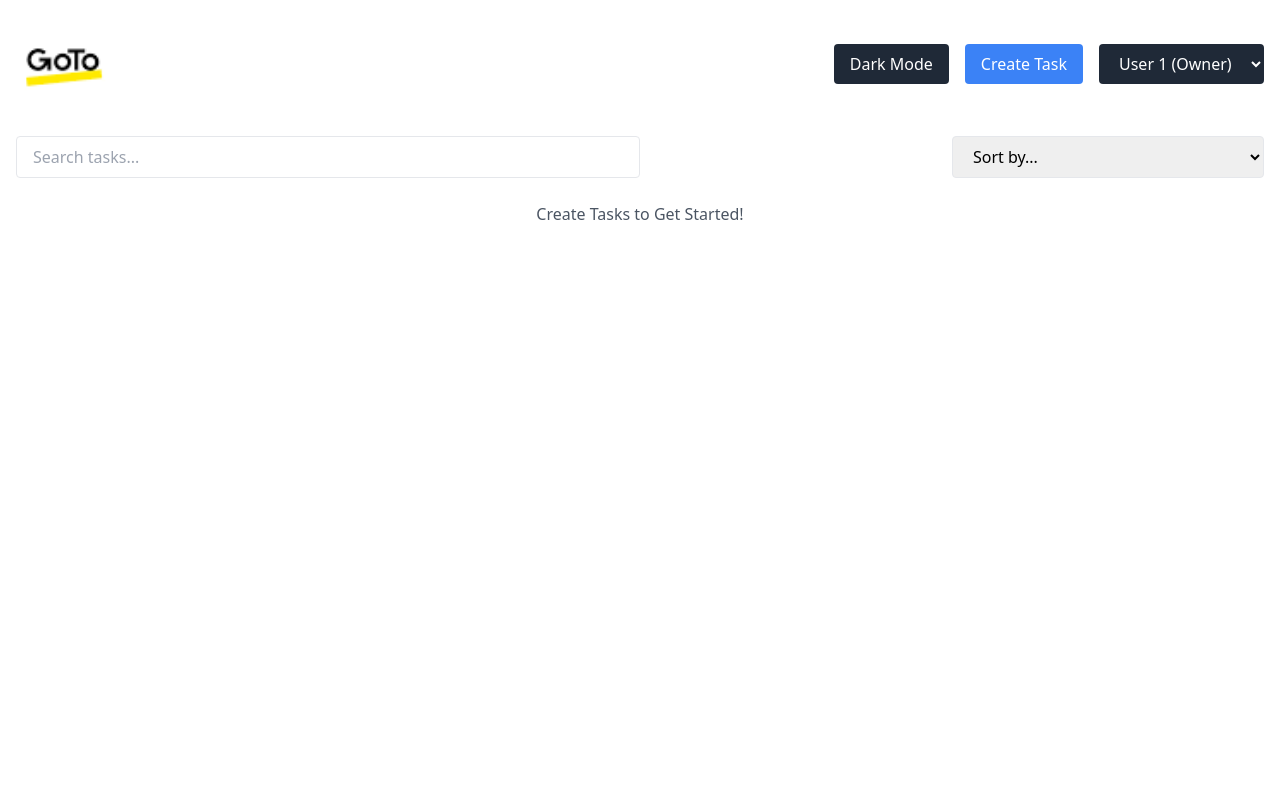
renders App component and toggles theme
The image size is (1280, 800).
expect the button "Create Task" is shown: met, box [965,44,1083,84]
// Check if the theme toggle button works
Click the button "Dark Mode" at point(891, 64), box [834,44,949,84]
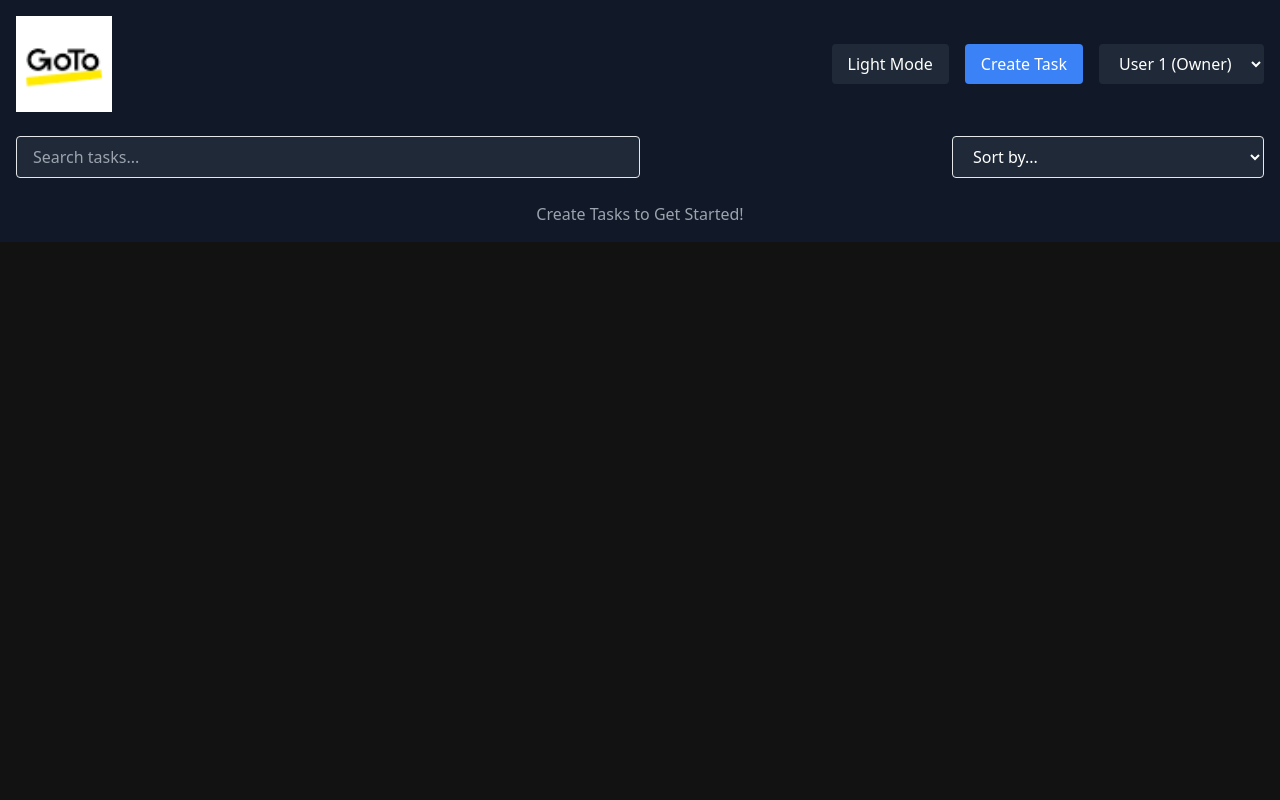
expect the button "Light Mode" is shown: met, box [832,44,949,84]
